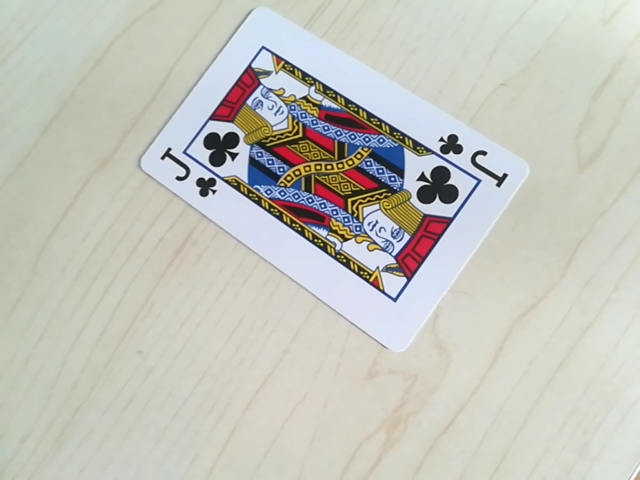mh j: (435, 133, 506, 180), (159, 158, 224, 201)
